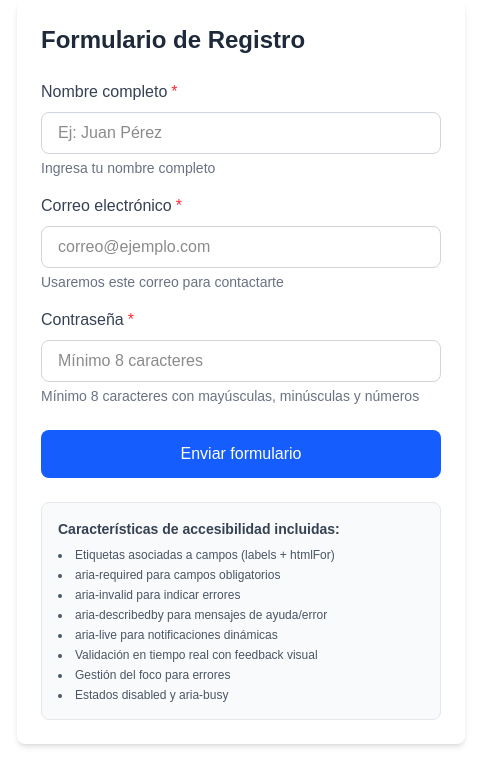
Test case: AccessibleForm › Envío del formulario › no envía el formulario si hay errores
The width and height of the screenshot is (483, 765).
Click the button "Enviar formulario". click: (241, 454)
box: x1=41 y1=430 x2=441 y2=478
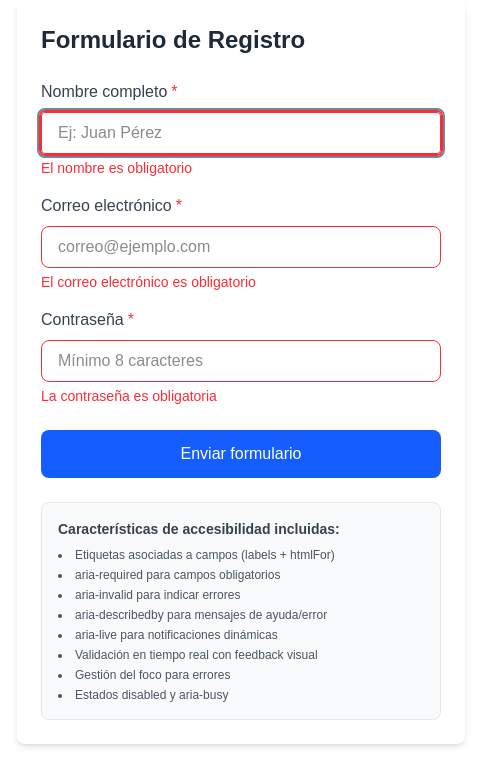
Check: the text "El nombre es obligatorio" is shown, box x1=41 y1=160 x2=192 y2=176
